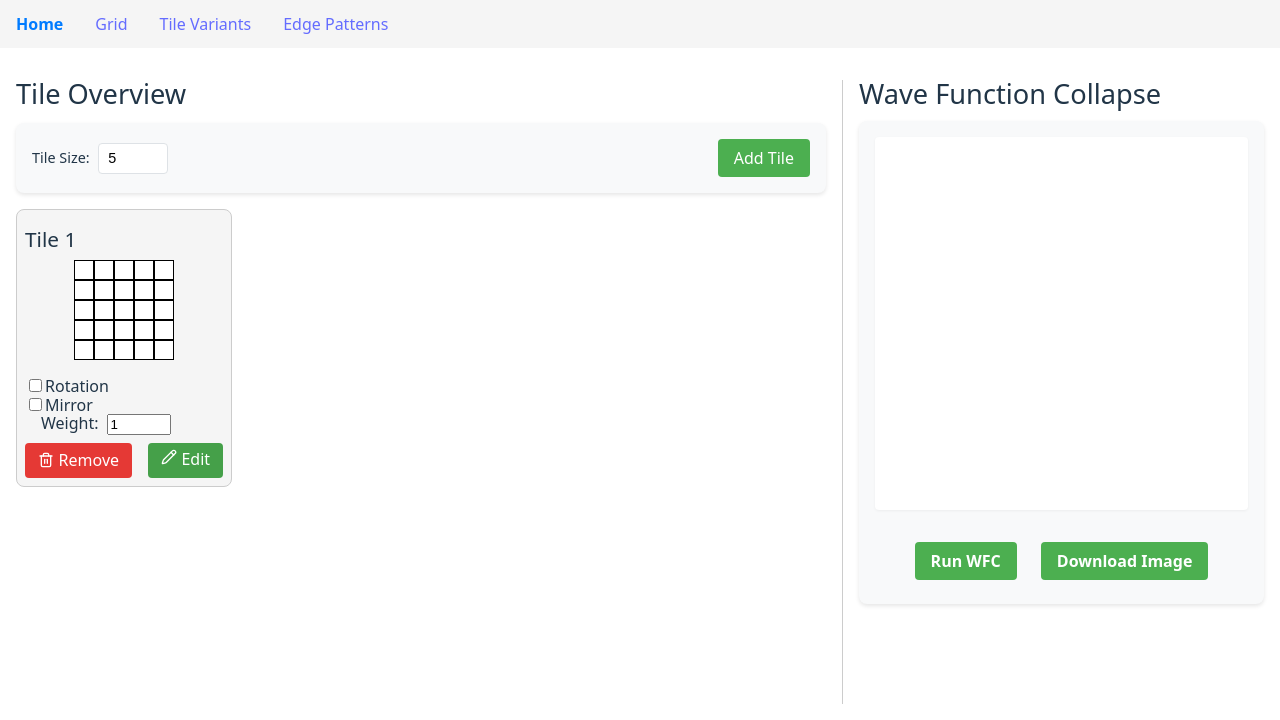
App Integration Tests › shows edge patterns when navigating to the edge patterns page
The width and height of the screenshot is (1280, 720).
Expected: the element with test id "wfc-section" is shown, [843,80,1264,704]
# Navigate to edge patterns page
Click the link "Edge Patterns": x=336, y=24 [283,13,388,35]
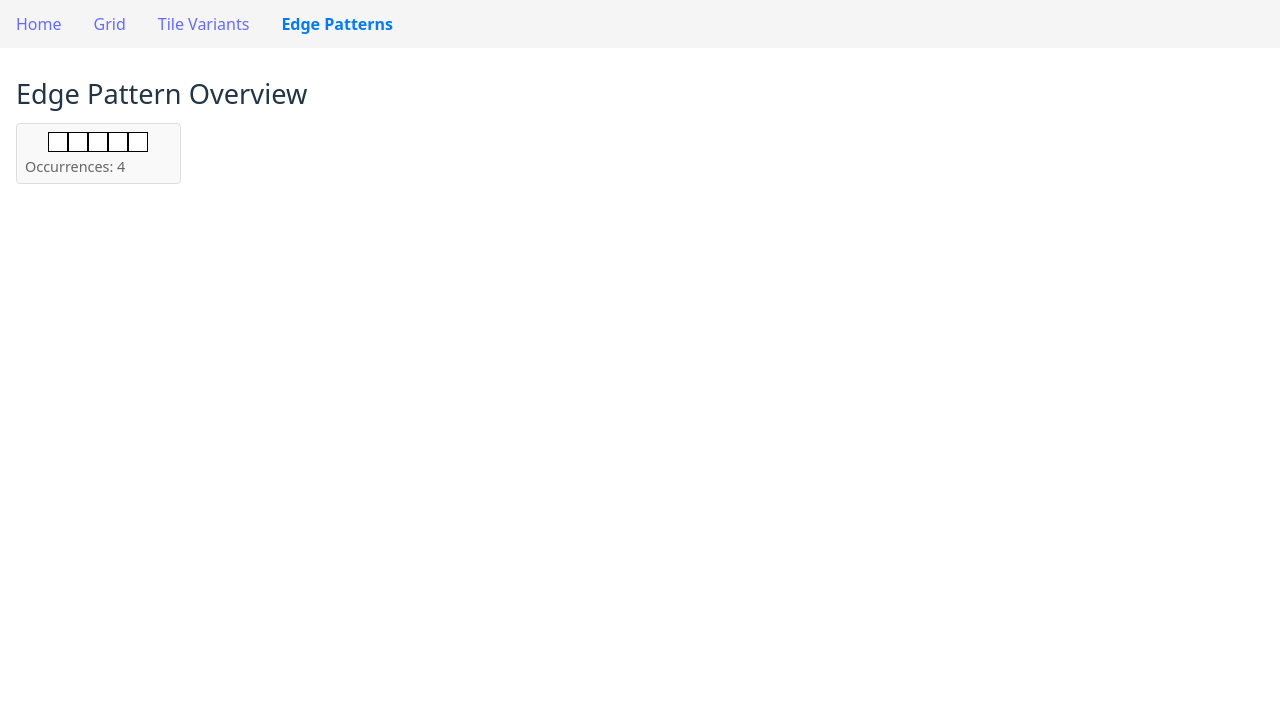
Now the heading "Edge Pattern Overview" is shown, box [16,75,307,112]
